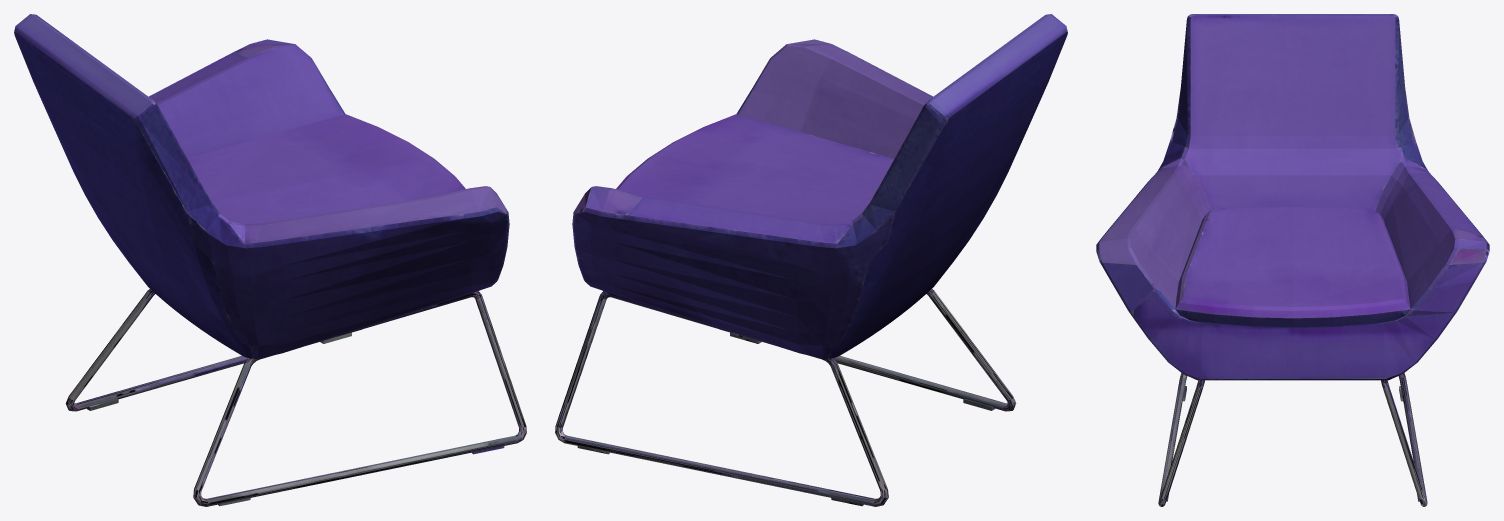
3 renders of one model, left to right at view 1: azimuth 30°, elevation 25°; view 2: azimuth 150°, elevation 25°; view 3: azimuth 270°, elevation 25°, orthographic. The views are drawn at different scales.
Parts seen in each view (by area): view 1: Node; view 2: Node; view 3: Node.
Part boxes in pixels (x1,y1,x2,y2): Node: [14, 14, 526, 506]; Node: [555, 14, 1067, 506]; Node: [1096, 14, 1489, 506].
Size of the model in its own units: 0.6526 by 0.6864 by 0.7.
Materials: 1 (1 with a texture image).
